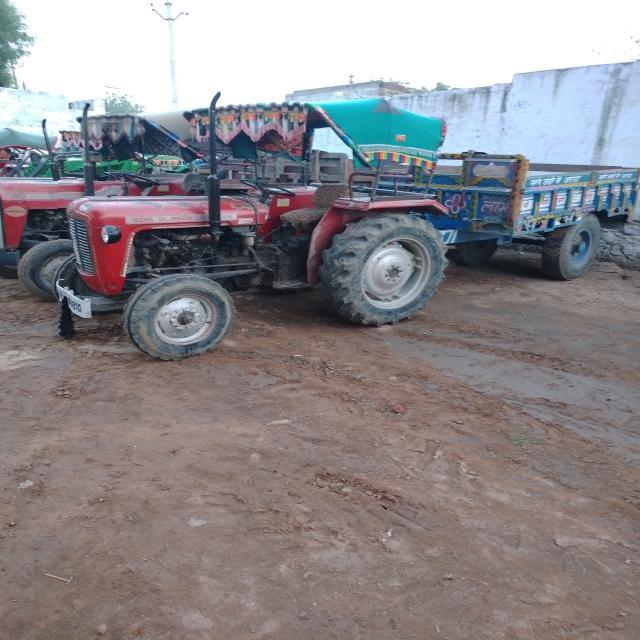Tractot: (58, 148, 622, 332)
